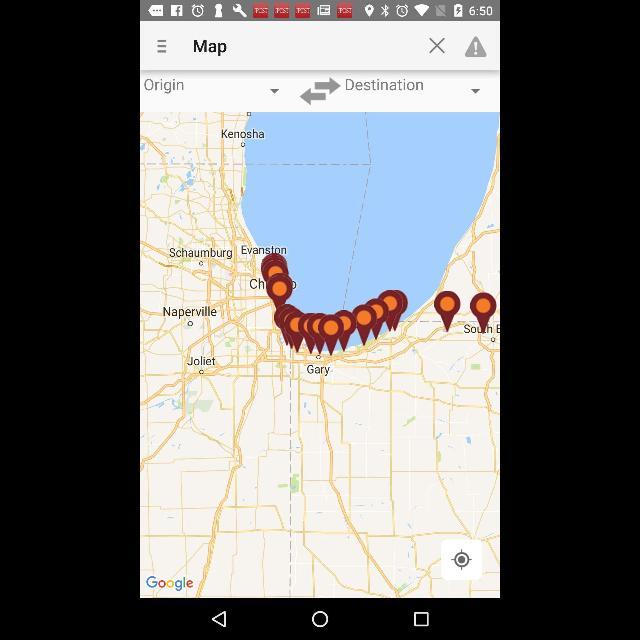icon: (298, 77, 340, 106), (462, 34, 490, 58), (428, 35, 446, 53), (311, 610, 329, 628), (212, 610, 228, 628), (413, 610, 429, 628), (156, 33, 168, 55), (271, 87, 281, 95), (472, 88, 482, 96)
input: (343, 71, 499, 111), (140, 70, 288, 110)
map: (140, 111, 500, 596)
panel: (140, 598, 500, 640)
text: (346, 78, 426, 94), (188, 38, 234, 56), (143, 77, 184, 95)
toolbar: (140, 22, 500, 68)
uppertaskbar: (140, 1, 500, 21)
